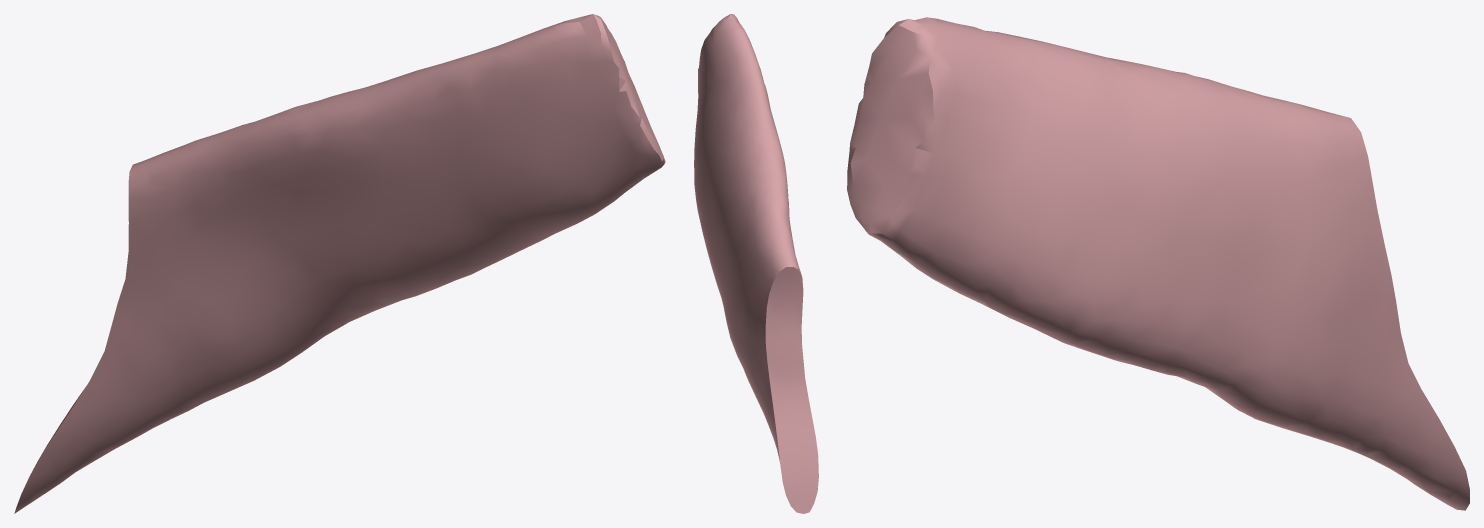
Rendered from fma297734_mm4016.glb.
3 views of the same model, side by side, from view 1: azimuth 30°, elevation 25°; view 2: azimuth 150°, elevation 25°; view 3: azimuth 270°, elevation 25° (orthographic). The views are drawn at different scales.
Visible parts, largest first — view 1: FMA297734_MM4016; view 2: FMA297734_MM4016; view 3: FMA297734_MM4016.
Part boxes in pixels (x1,y1,x2,y2): FMA297734_MM4016: [14, 14, 665, 513]; FMA297734_MM4016: [694, 14, 818, 513]; FMA297734_MM4016: [847, 17, 1469, 510].
Bounding box in the file's own units: 0.0569 × 0.0754 × 0.0612.
